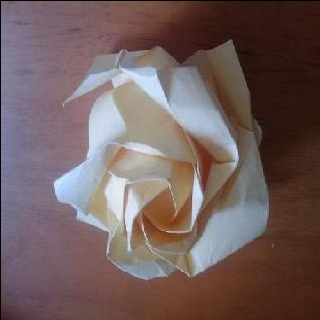8/可回收垃圾/纸: (52, 37, 271, 279)
